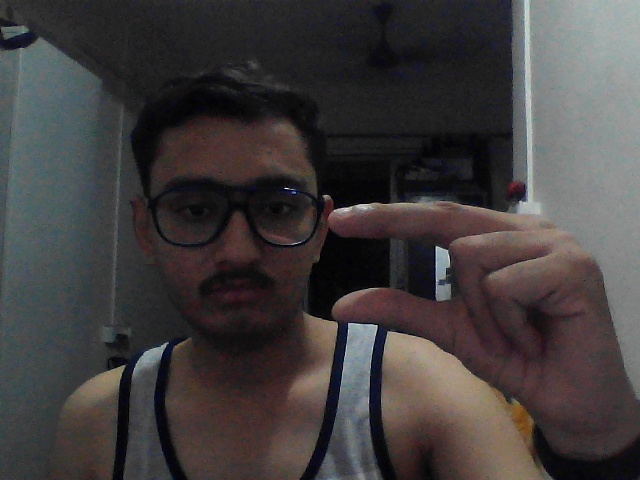No: (269, 147, 619, 410)
